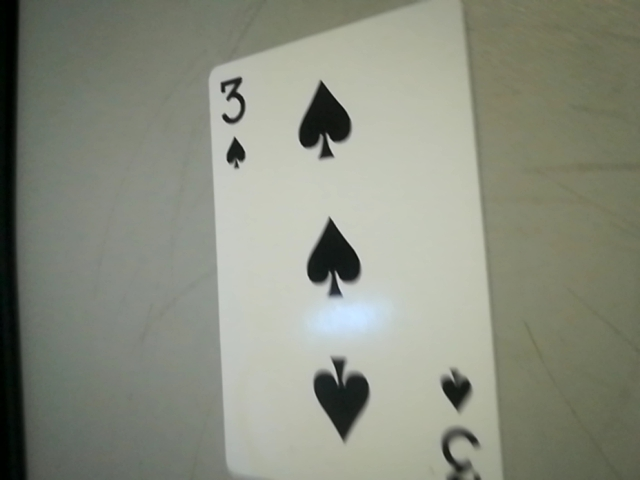ht 3: (206, 68, 260, 171)
